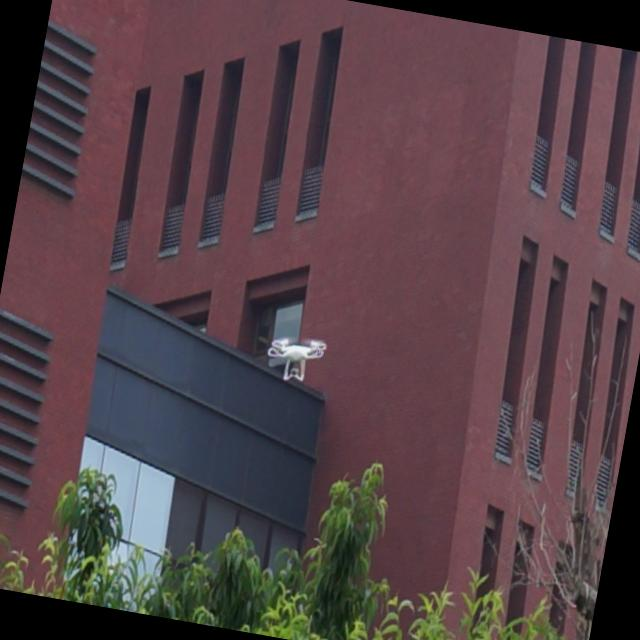drone: (260, 326, 329, 391)
